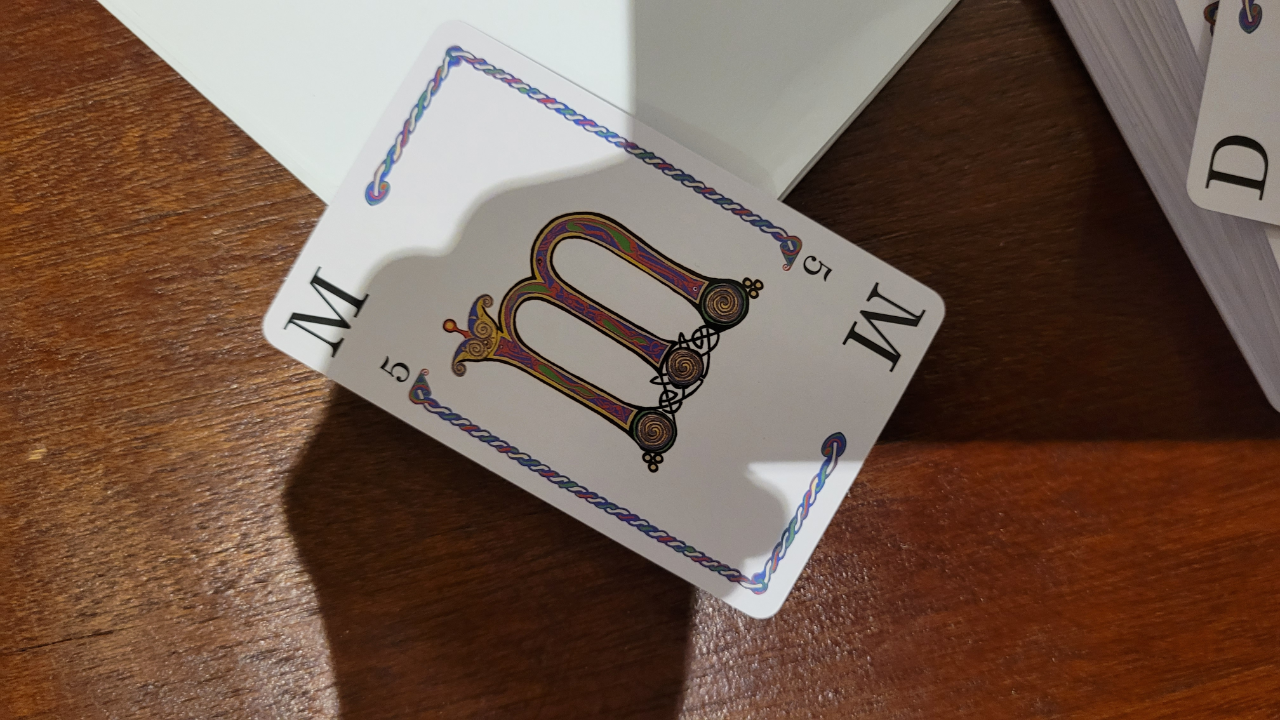quiddler_card: (231, 13, 988, 626)
